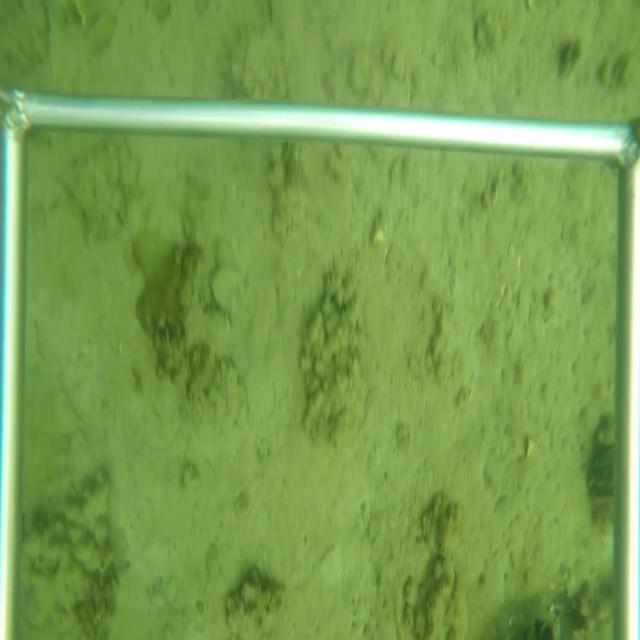Oyster-Indeterminate: (211, 263, 242, 314)
